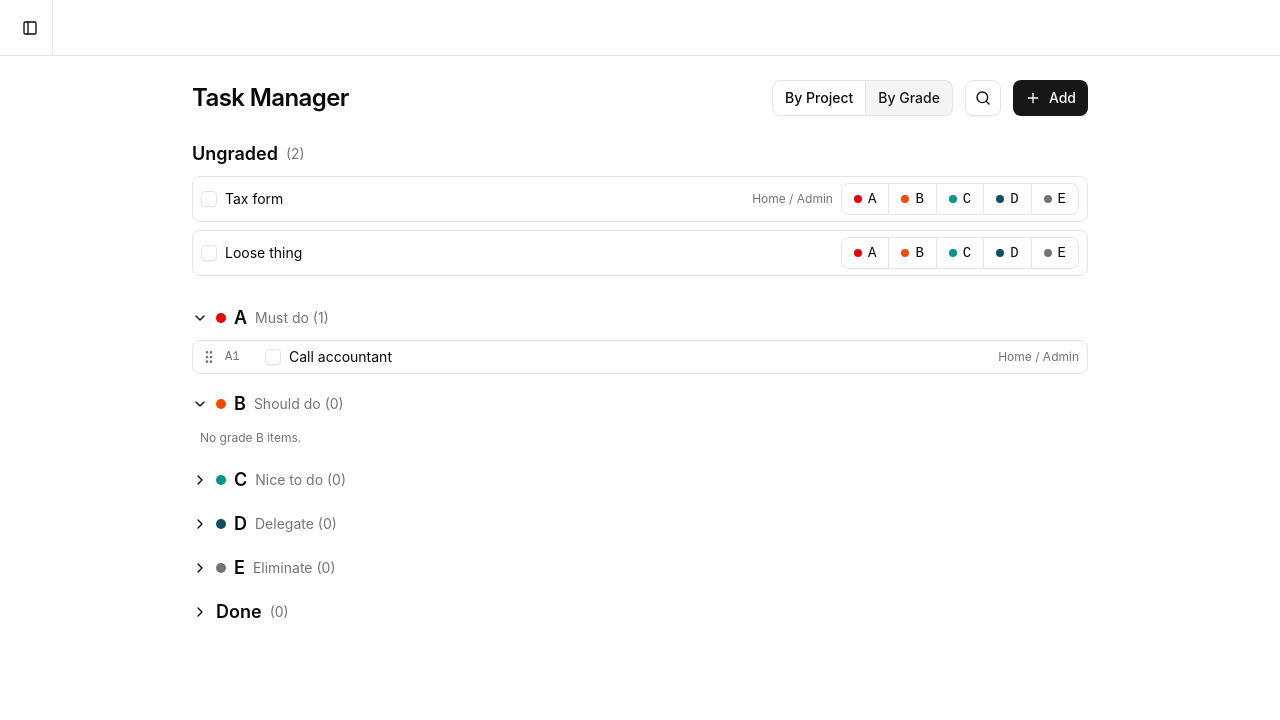
Scenario: Task Manager: capture and grading › ticking an item moves it to Done
What coordinates should you click on to do the following:
click the checkbox named "Mark “Call accountant” done"
I would click on:
 (273, 357)
Its box is [265,349,281,365].
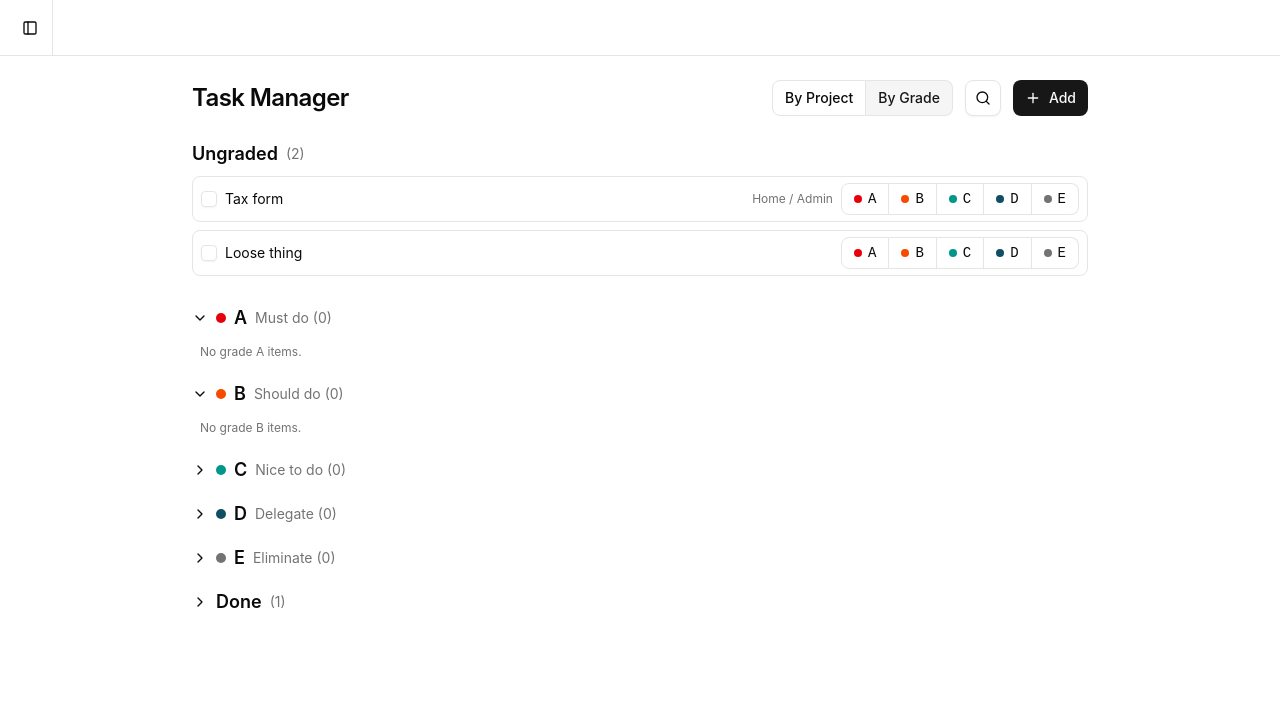
What coordinates should you click on to do the following:
click the button "Done (1)"
I would click on:
 (239, 602)
Its box is [192,584,1088,620].
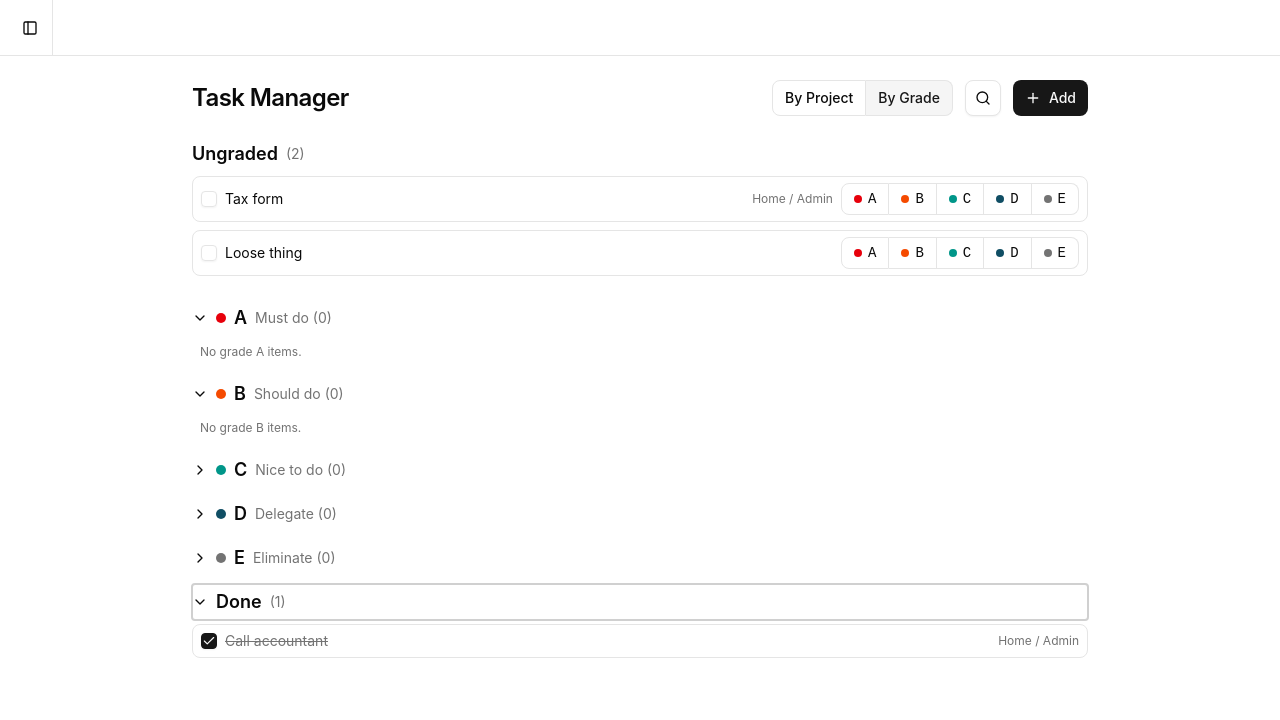
Expected: the button "Call accountant" is shown, [225,631,990,651]
